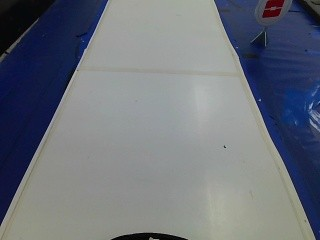company: (250, 0, 293, 26)
